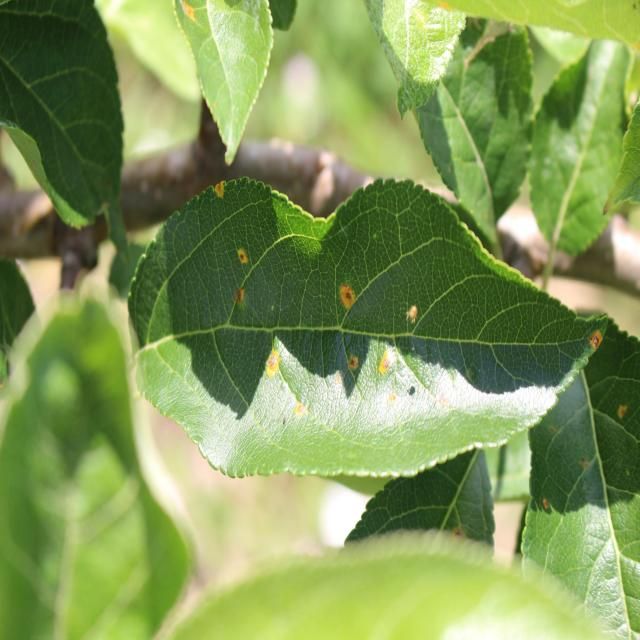Rust: (254, 342, 286, 384), (378, 342, 402, 383), (536, 480, 557, 526), (400, 283, 418, 335), (288, 393, 314, 425), (429, 383, 452, 418), (586, 325, 610, 358), (339, 282, 360, 312), (210, 176, 230, 206), (612, 400, 632, 427), (235, 241, 253, 270), (345, 350, 361, 382), (232, 282, 248, 314)
